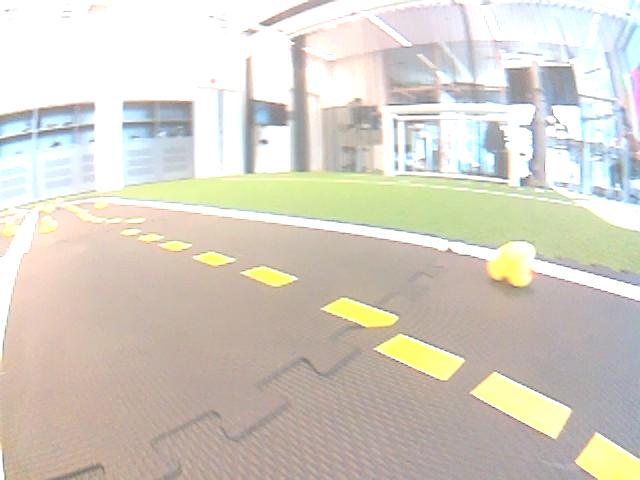Duckies: (487, 242, 538, 286), (2, 221, 19, 237), (40, 216, 57, 231), (43, 204, 55, 213), (95, 199, 107, 207), (33, 203, 43, 211), (54, 197, 63, 204), (8, 207, 16, 214)
